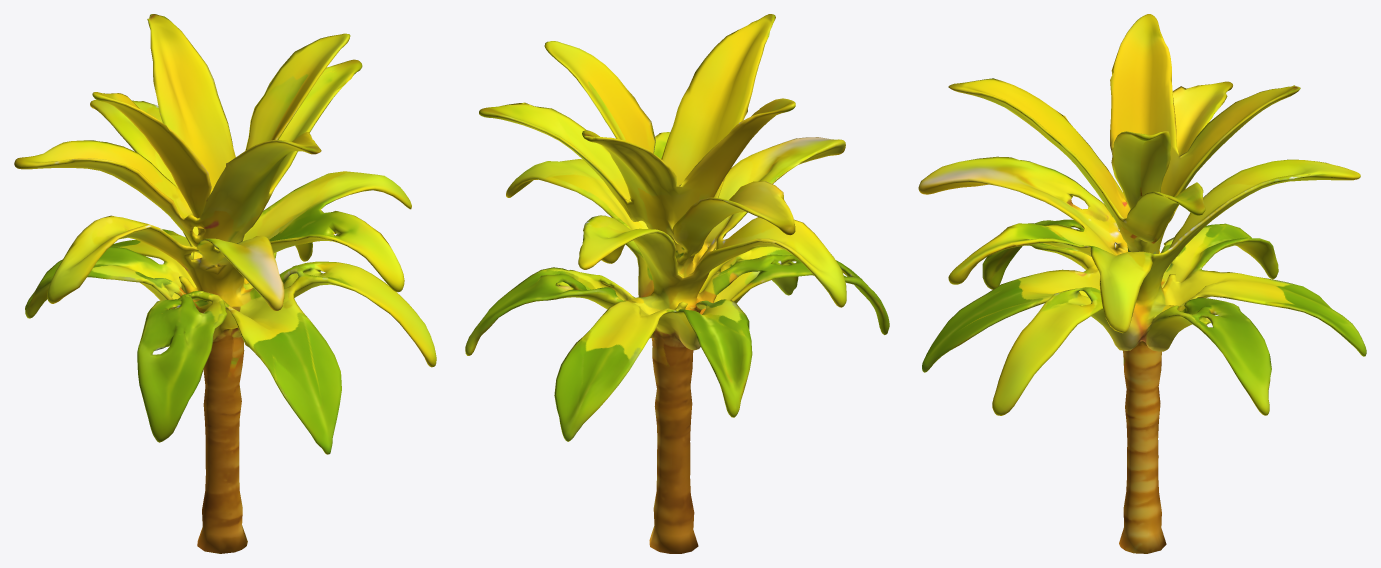
Rendered from base_basic_pbr.fbx.
The picture shows the model from 3 angles, left to right: view 1: azimuth 30°, elevation 25°; view 2: azimuth 150°, elevation 25°; view 3: azimuth 270°, elevation 25°; orthographic projection.
Visible parts, largest first — view 1: model; view 2: model; view 3: model.
Part boxes in pixels (x1,y1,x2,y2): model: [14, 14, 436, 553]; model: [465, 14, 889, 553]; model: [918, 14, 1366, 553].
Size of the model in its own units: 135 by 175 by 151.
1 material, 1 textured.
